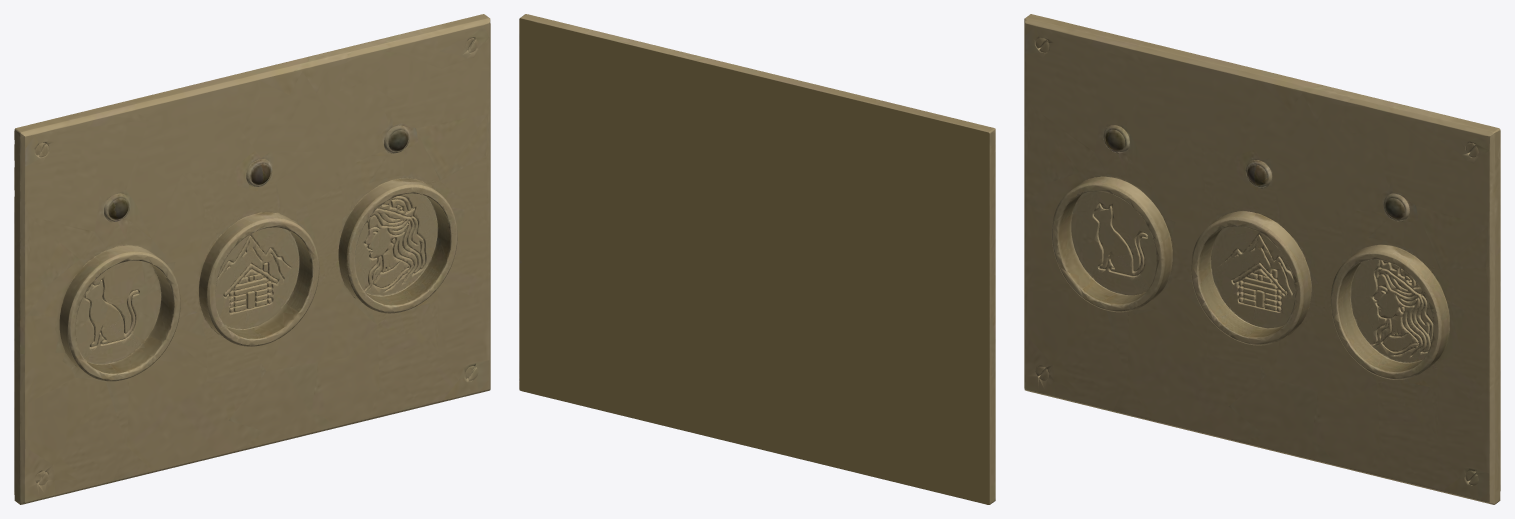
Rendered from medallion_panel.glb.
The picture shows the model from 3 angles, left to right: view 1: azimuth 30°, elevation 25°; view 2: azimuth 150°, elevation 25°; view 3: azimuth 330°, elevation 25°; orthographic projection.
Visible parts, largest first — view 1: medal_panel_fixed; view 2: medal_panel_fixed; view 3: medal_panel_fixed.
Part boxes in pixels (box(x1,y1,x2,y2)): medal_panel_fixed: box(14, 14, 490, 504); medal_panel_fixed: box(519, 14, 995, 504); medal_panel_fixed: box(1024, 14, 1500, 504).
Bounding box in the file's own units: 0.45 × 0.3408 × 0.0288.
2 materials, 1 textured.
